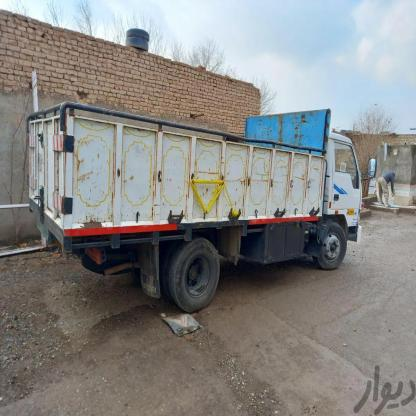Truck: (27, 94, 361, 300)
